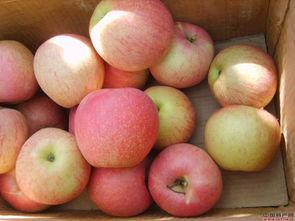apple: (69, 88, 160, 169), (14, 129, 90, 207), (31, 32, 104, 109), (147, 143, 225, 215), (89, 2, 171, 69), (203, 104, 280, 171), (203, 45, 275, 112), (148, 19, 215, 89), (140, 86, 196, 146), (88, 165, 148, 218), (1, 39, 38, 107), (1, 107, 28, 175)
